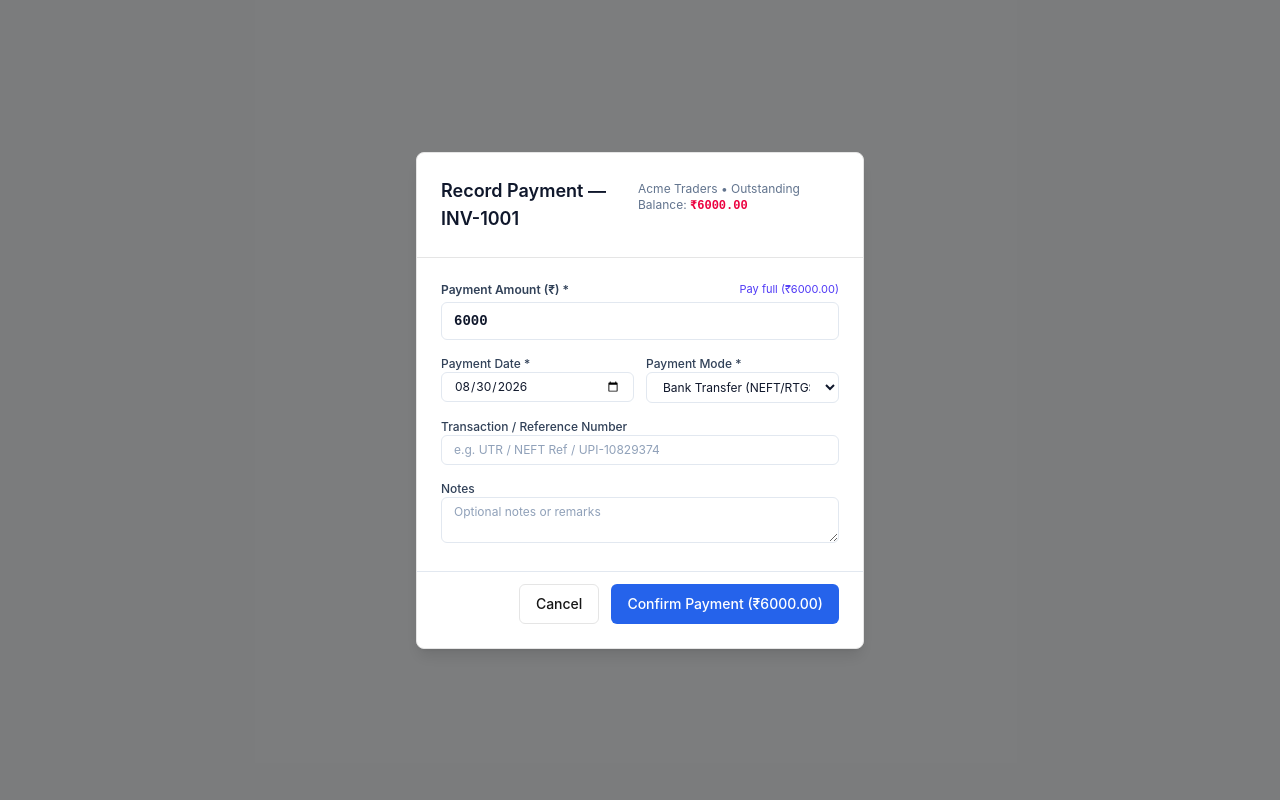
it: RecordPaymentModal › 'Pay full' button sets amount to outstanding balance
The width and height of the screenshot is (1280, 800).
Replace the text in the number field with "1000": x=640, y=320 [441,302,839,340]
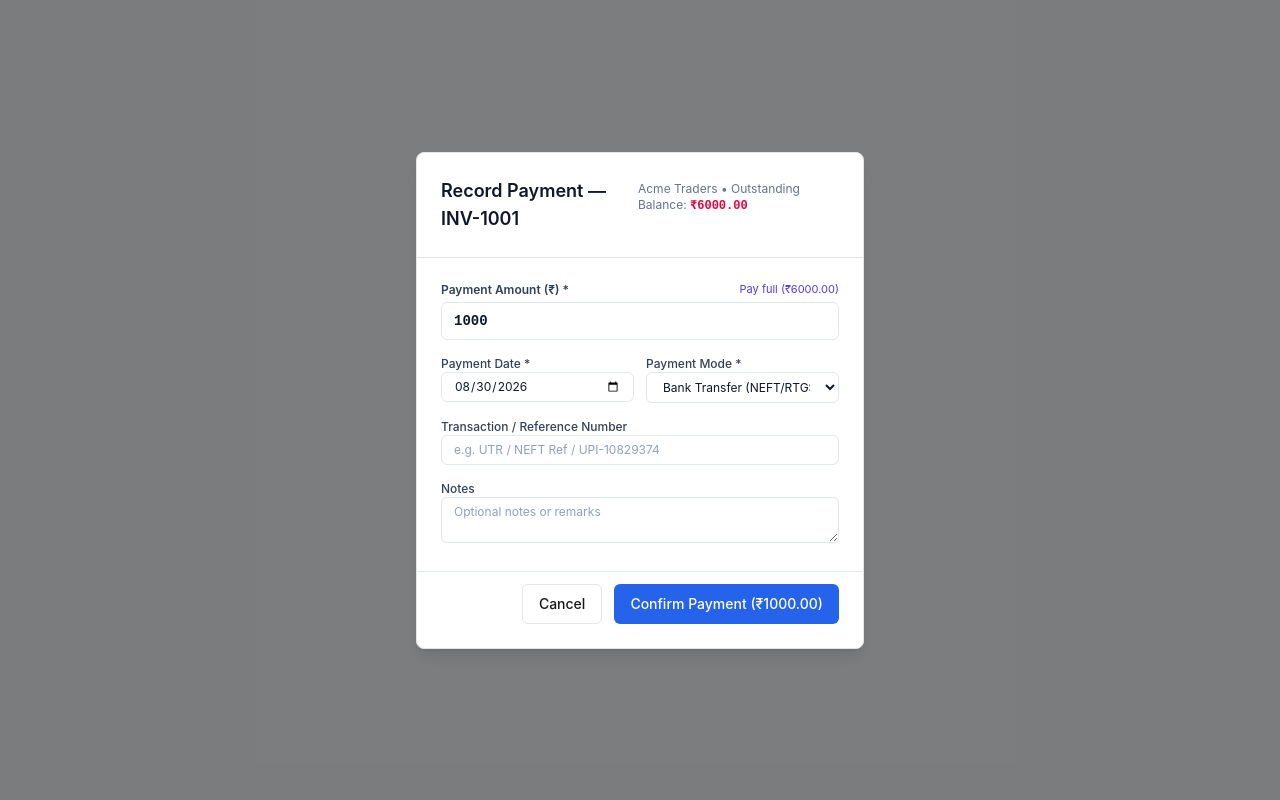
Click the button "Pay full (₹6000.00)": x=789, y=290 [740,282,839,297]
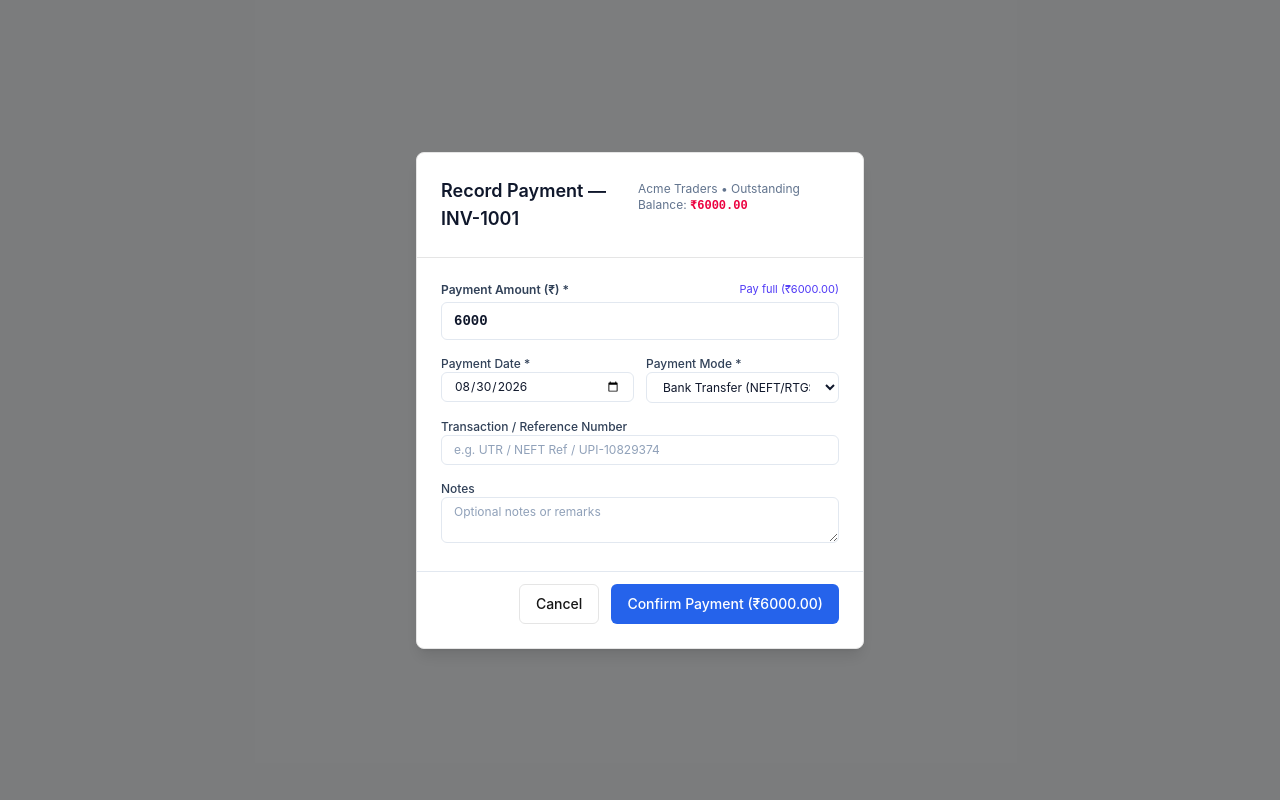
expect the number field holds "6000": met, box [441,302,839,340]
